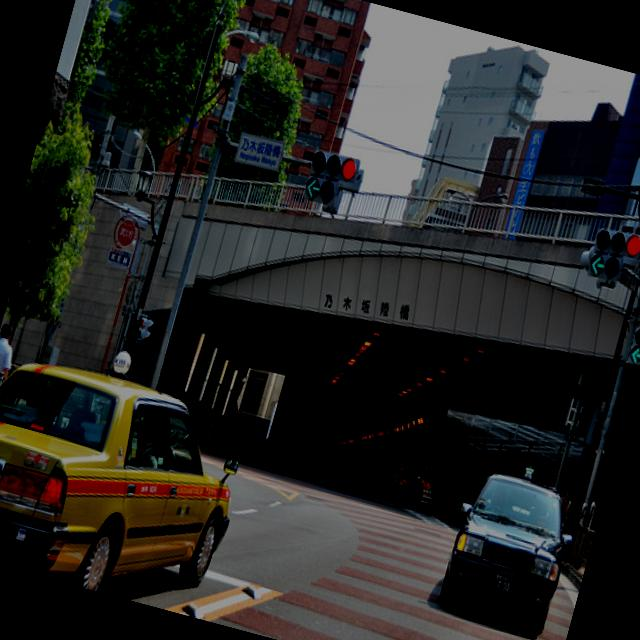Vehicle: (0, 336, 260, 620), (436, 462, 586, 634), (402, 458, 460, 518), (382, 455, 421, 504)
